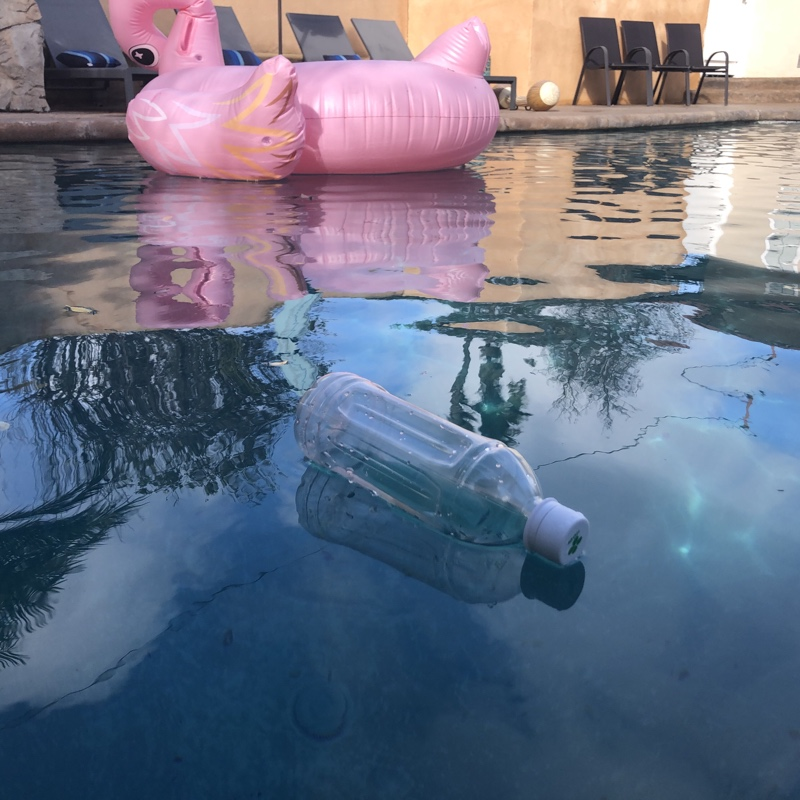Plastic Bottle: (291, 368, 595, 579)
